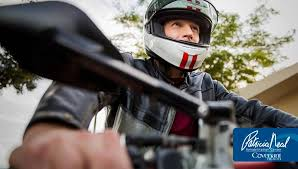helmet: (134, 1, 240, 86)
